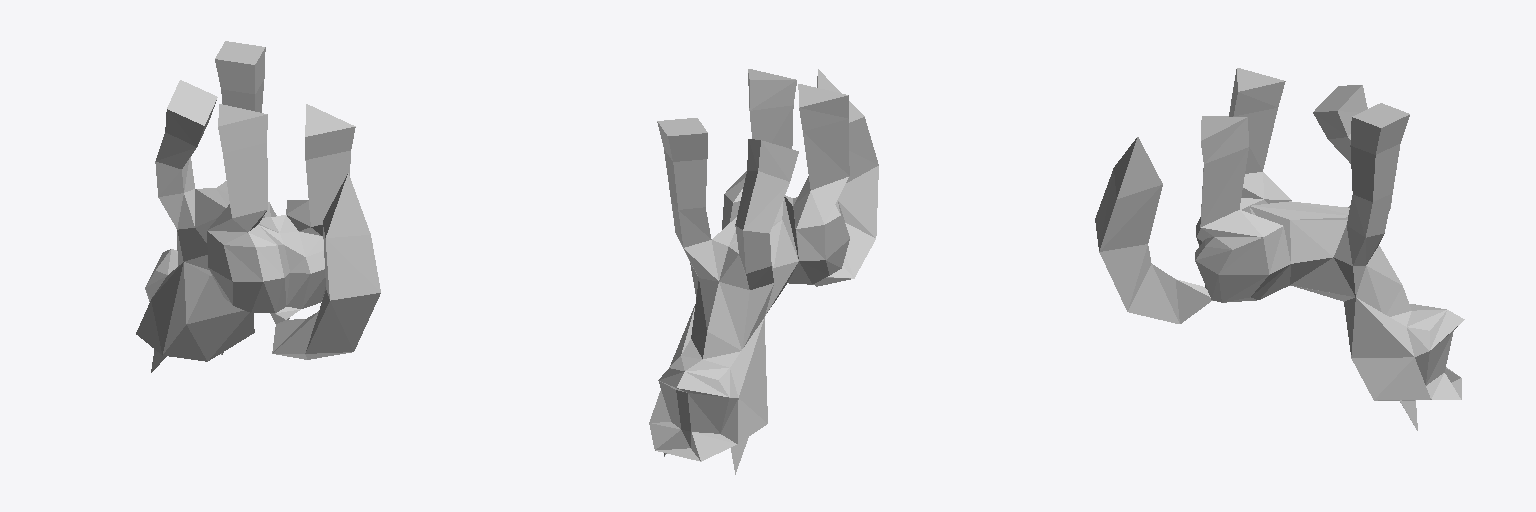
File: PONY_000016.obj
The picture shows the model from 3 angles: view 1: azimuth 30°, elevation 25°; view 2: azimuth 150°, elevation 25°; view 3: azimuth 270°, elevation 25°; orthographic projection.
Parts seen in each view (by area): view 1: pony; view 2: pony; view 3: pony.
Part boxes in pixels (bbox=[...]): pony: bbox=[136, 41, 380, 372]; pony: bbox=[649, 69, 878, 474]; pony: bbox=[1095, 68, 1464, 430].
Bounding box in the file's own units: 3.52 × 8.89 × 9.34.